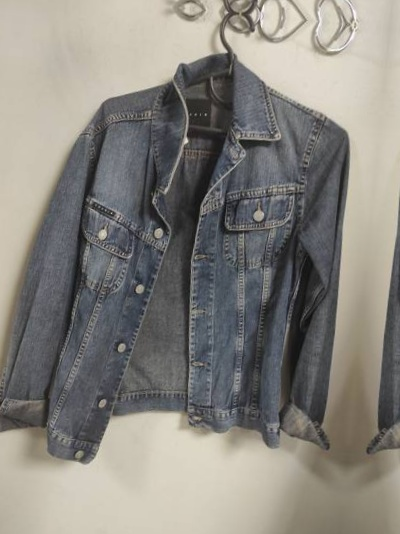Blazer: (0, 39, 369, 490), (361, 76, 400, 527), (0, 2, 2, 454)
